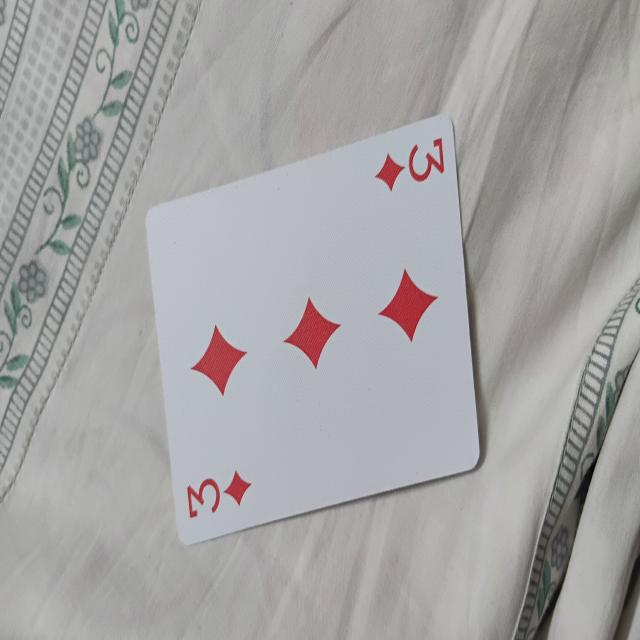3D: (154, 104, 478, 545)
